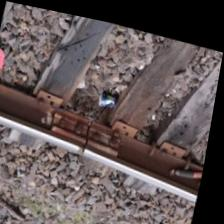person: (62, 102, 121, 162)
